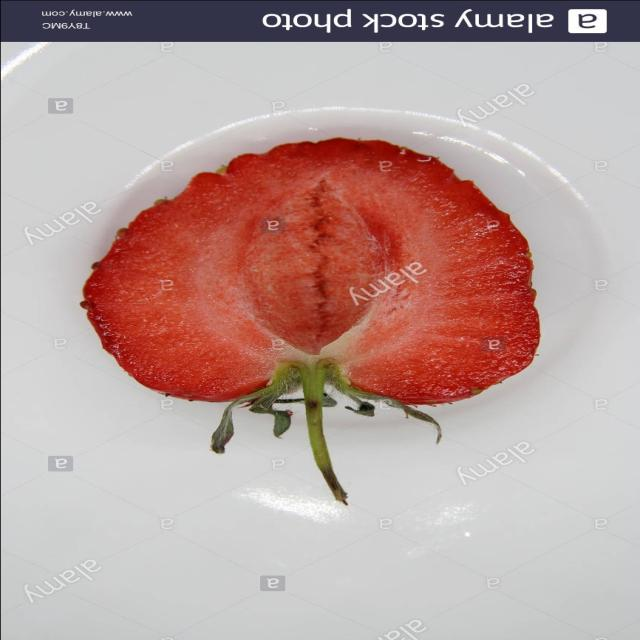strawberry: (31, 95, 611, 514)
